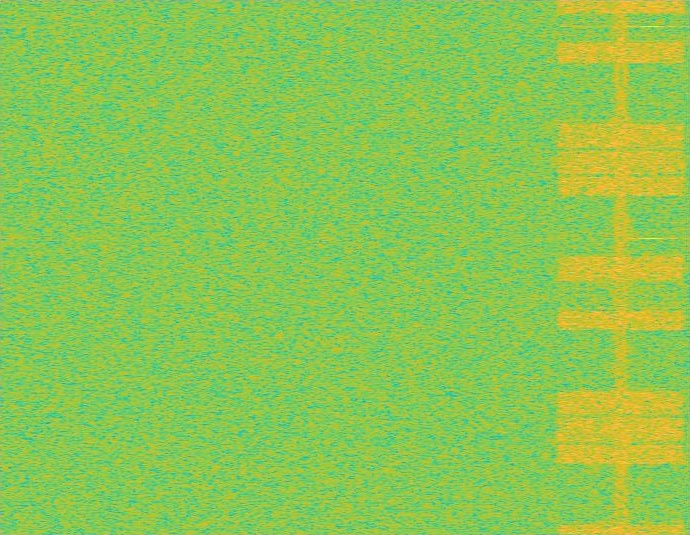DSSS: (612, 0, 630, 534)
LTE: (552, 0, 689, 534)
Radar: (645, 0, 659, 534)
